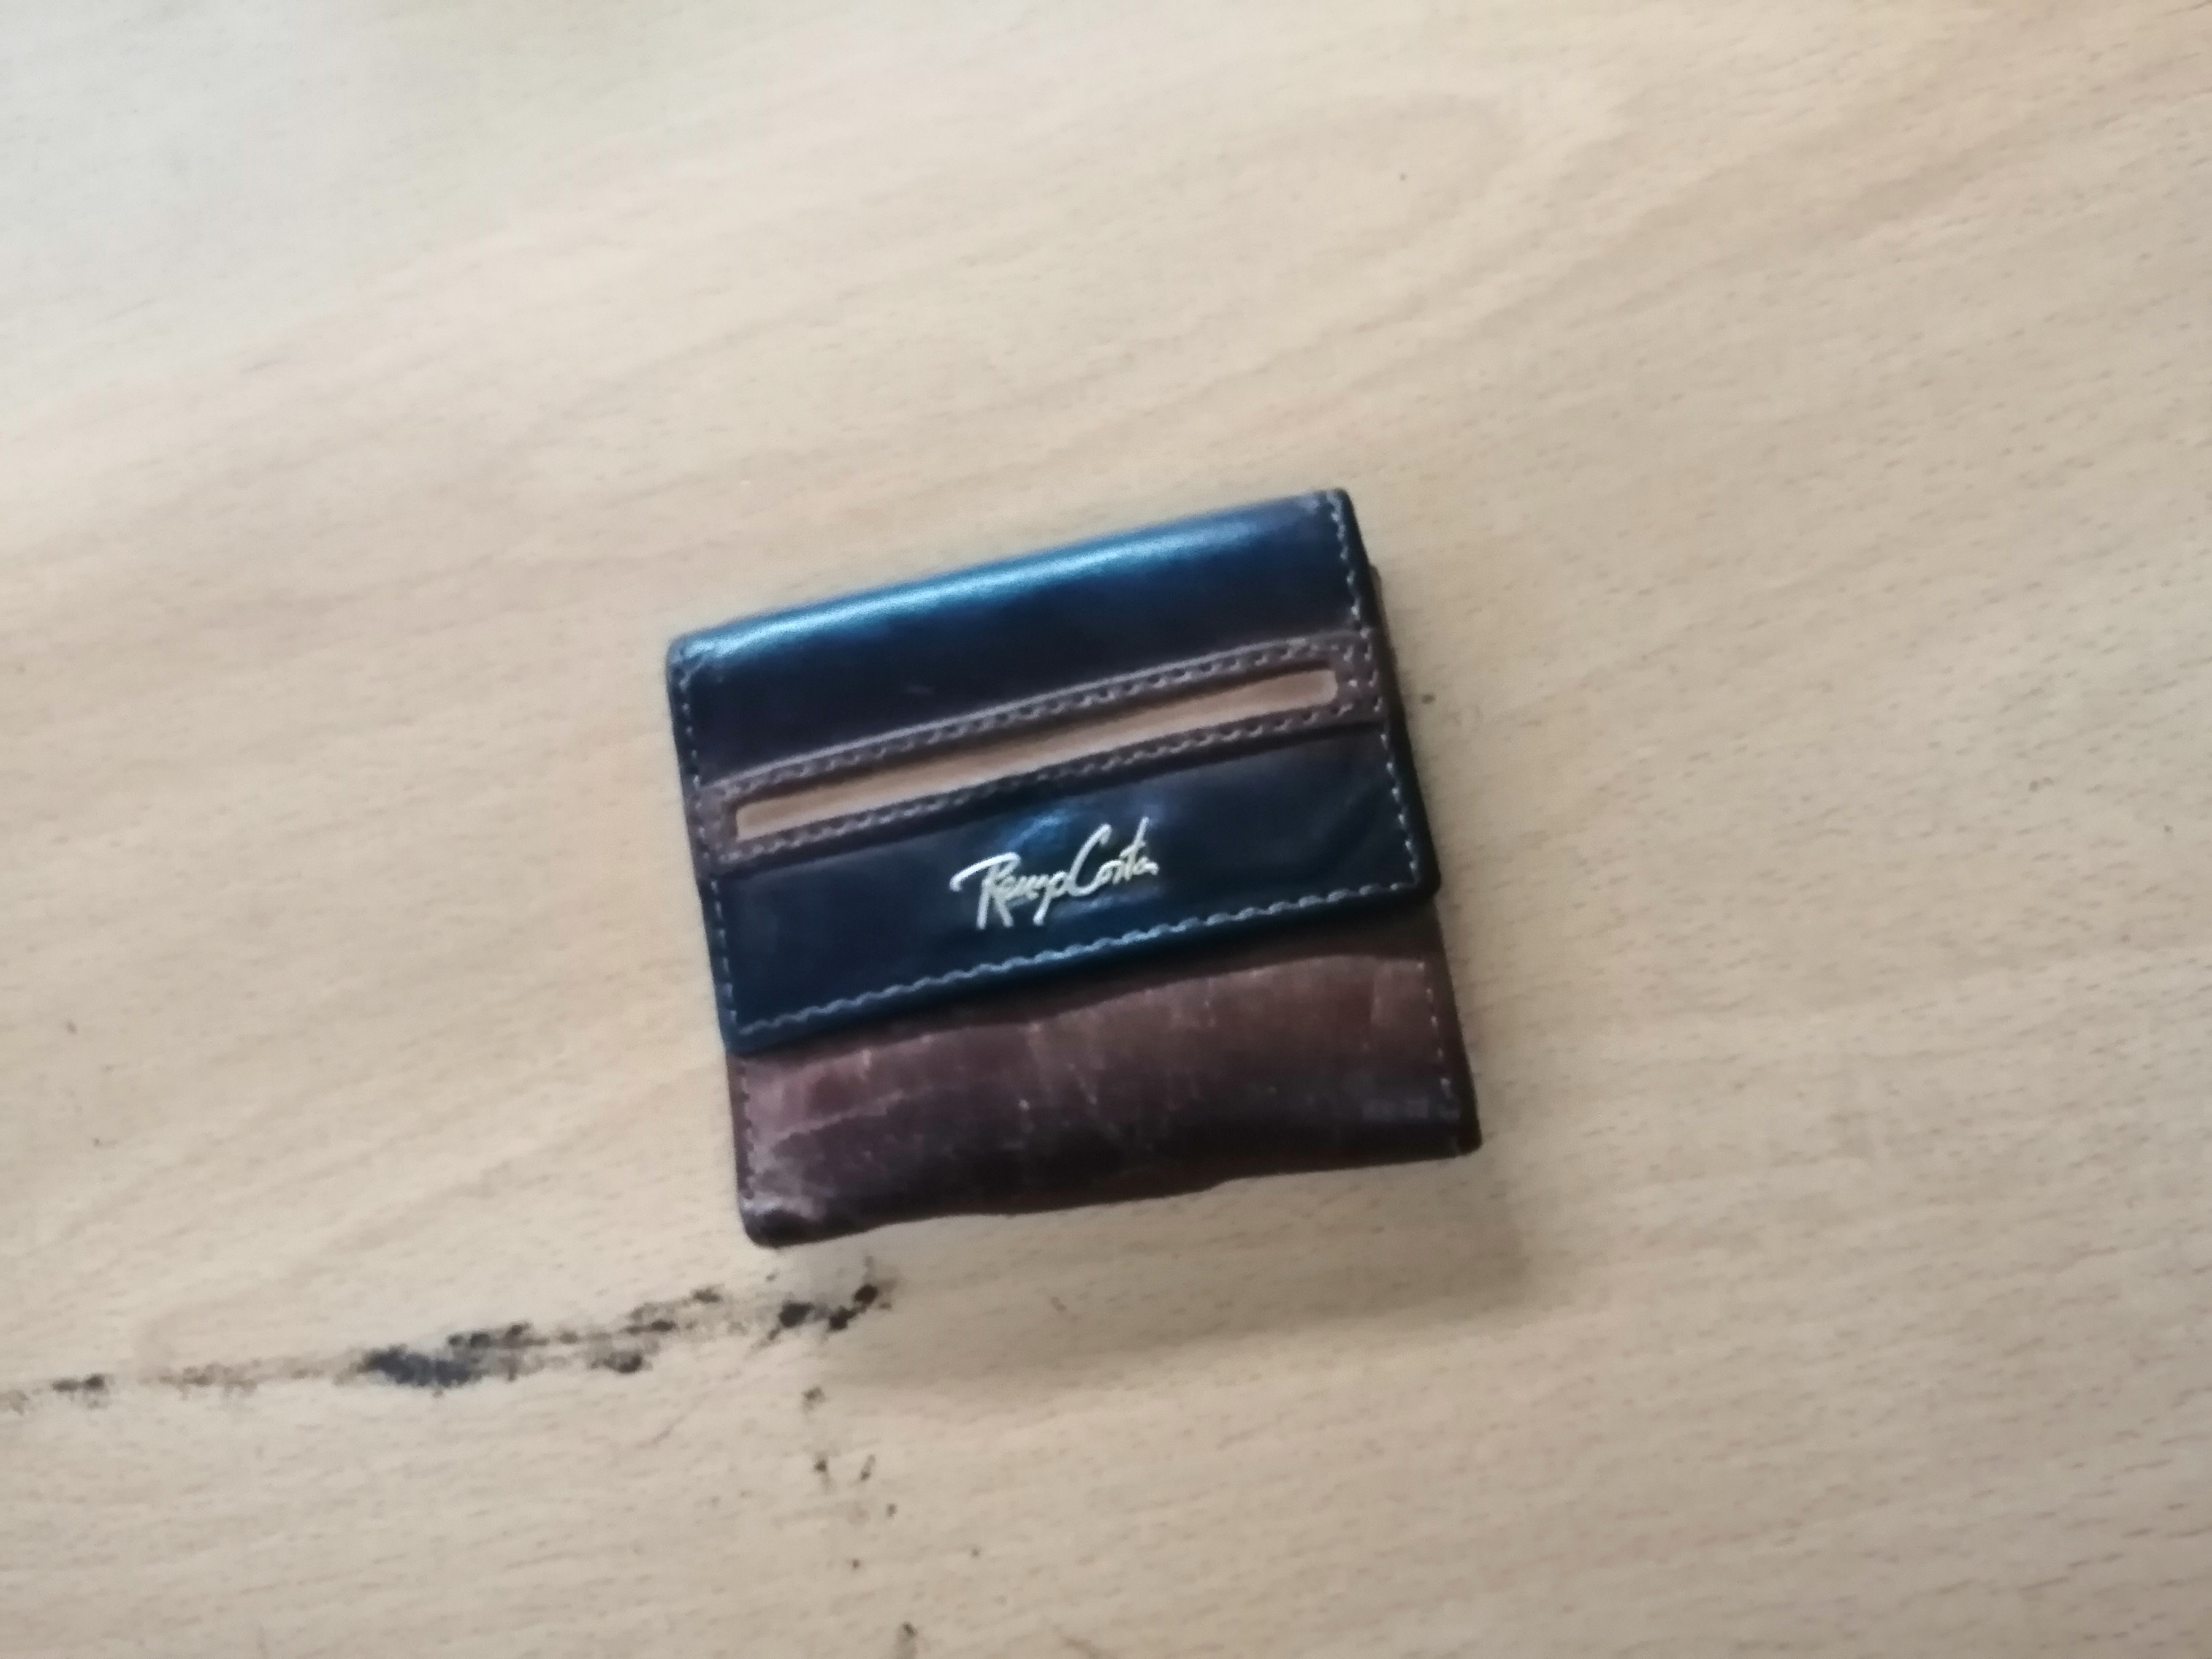monedero: (648, 471, 1534, 1260)
